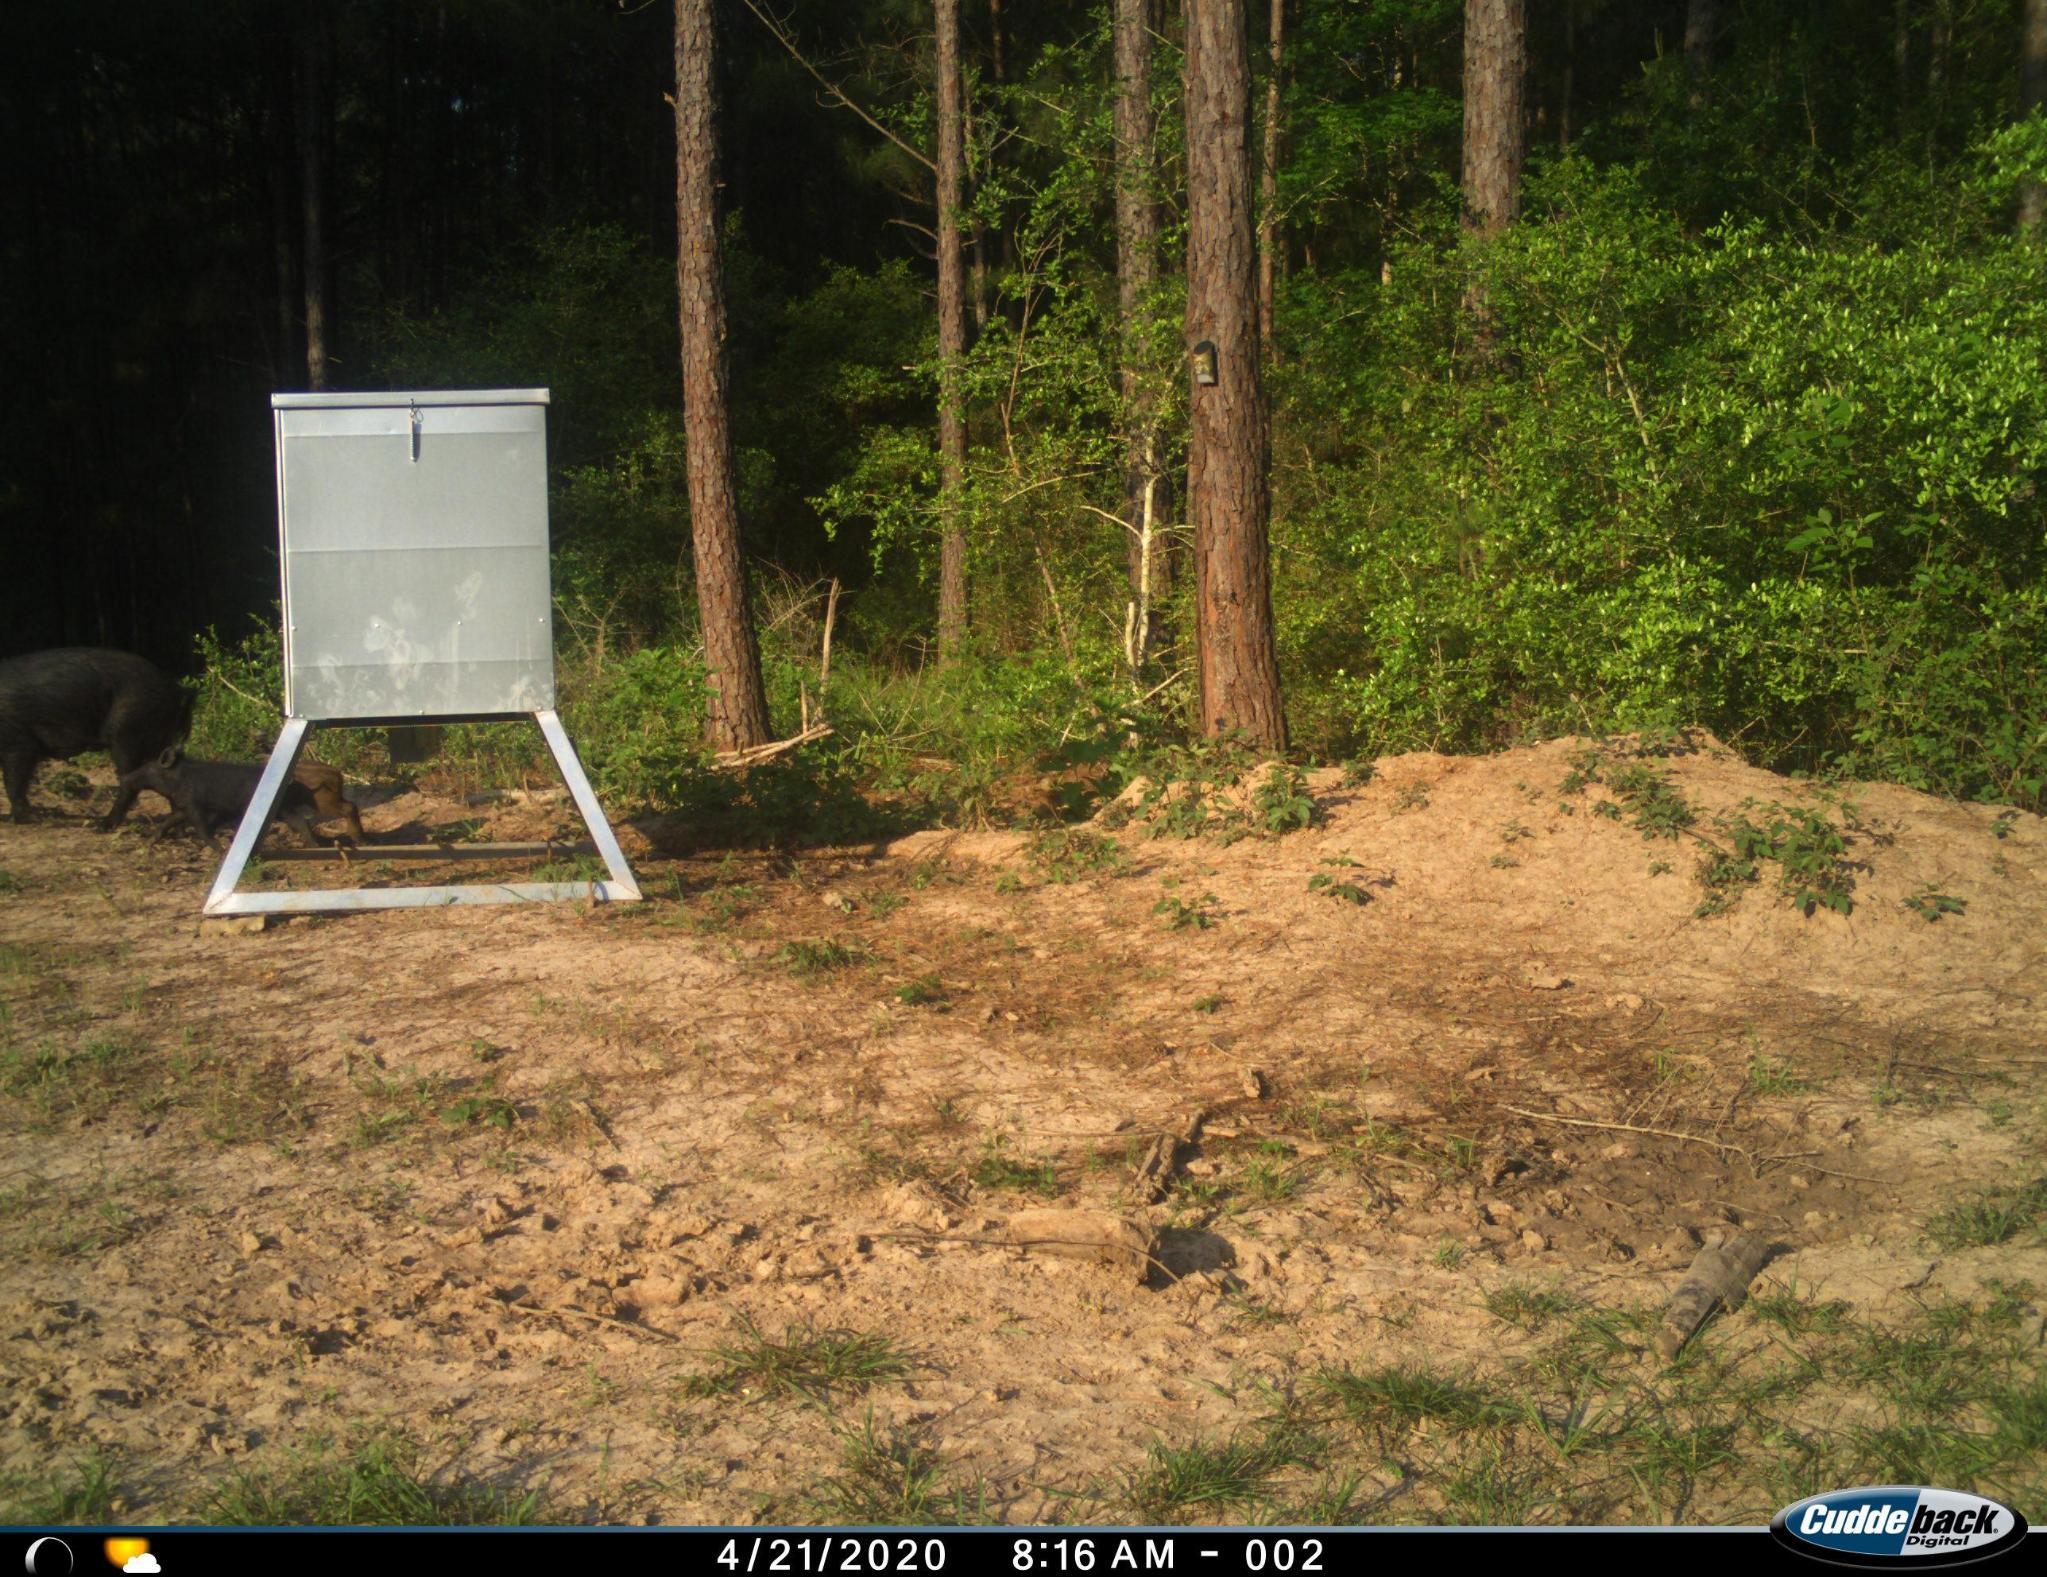Hog: (0, 641, 205, 835), (121, 742, 306, 855)
